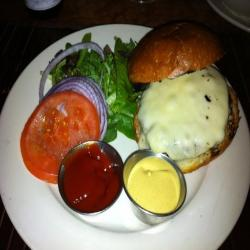burger: (125, 17, 239, 176)
ketchup: (54, 136, 121, 214)
salad: (53, 48, 126, 83)
